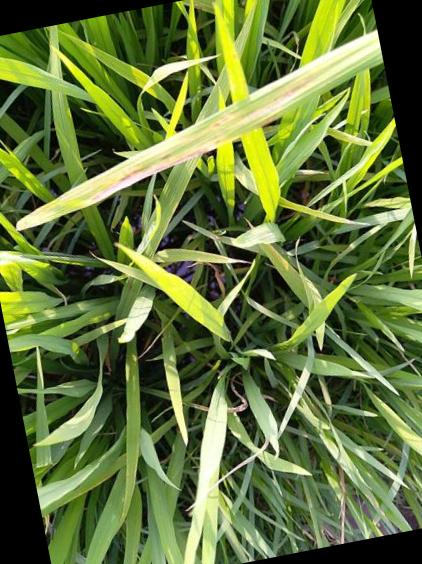Leaf Streak: (18, 30, 384, 230)
